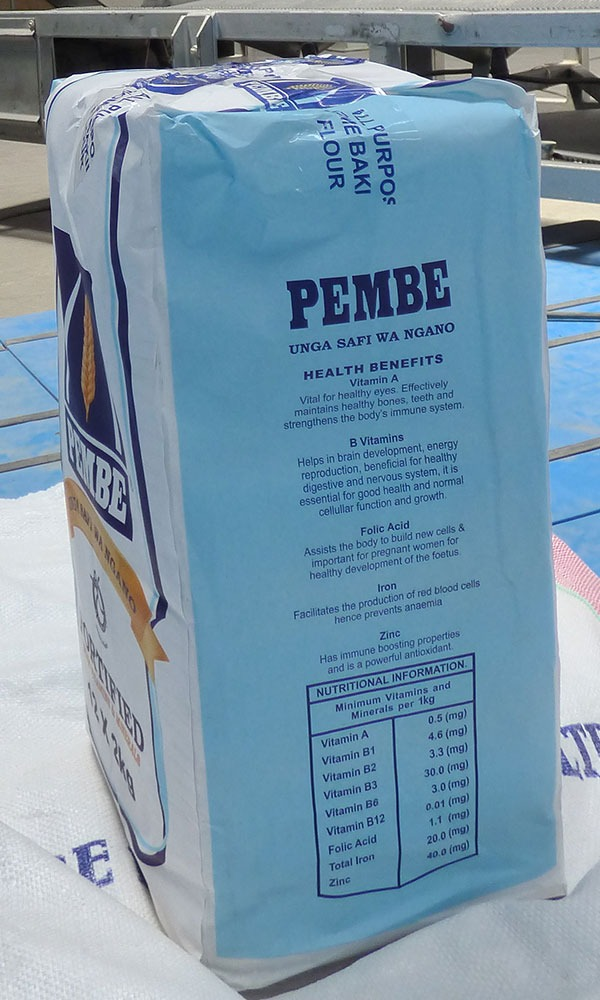wheat_flour_blue_label: (49, 54, 553, 982)
